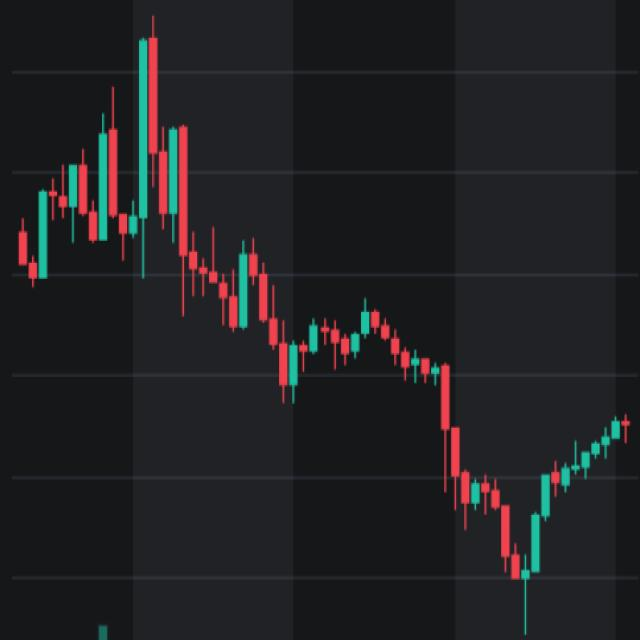Support-breakout: (8, 30, 456, 479)
